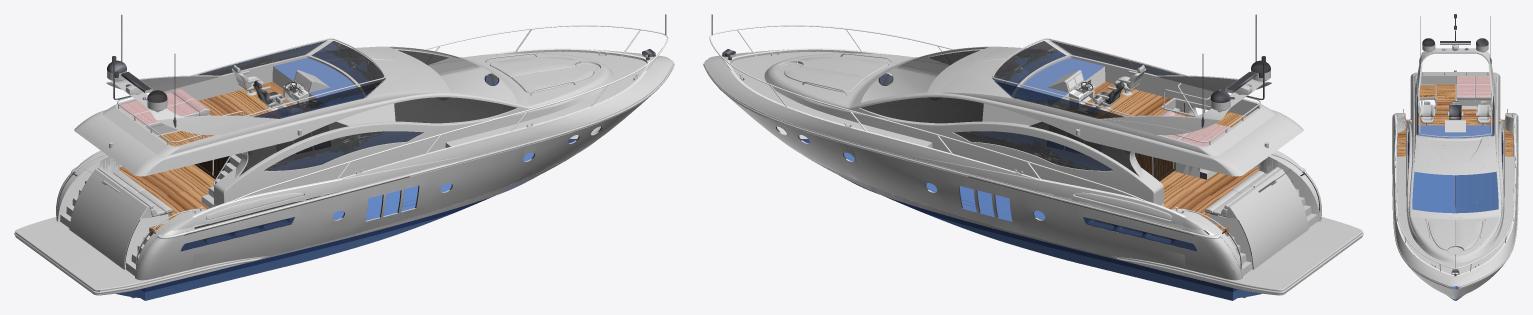
File: yacht.glb
3 renders of one model, left to right at view 1: azimuth 30°, elevation 25°; view 2: azimuth 150°, elevation 25°; view 3: azimuth 270°, elevation 25°, orthographic. The views are drawn at different scales.
Visible parts, largest first — view 1: cabin, topside_starboard, deck, flybridge, deco_mat_10, topside_port, transom, deco_mat_6, bottom, deco_mat_2, deco_white_0, deco_mat_5 (+7 smaller); view 2: cabin, topside_port, deck, flybridge, deco_mat_10, topside_starboard, transom, bottom, deco_mat_6, deco_mat_2, deco_white_0, deco_mat_5 (+8 smaller); view 3: deck, flybridge, cabin, bottom, deco_mat_6, deco_mat_7, deco_mat_8, deco_mat_1, deco_mat_5, deco_white_0, deco_material_0, topside_port (+4 smaller).
Part boxes in pixels (left/top/right/bottom): cabin: left=74, top=14, right=674, bottom=230; topside_starboard: left=53, top=96, right=650, bottom=295; deck: left=16, top=49, right=673, bottom=289; flybridge: left=92, top=38, right=437, bottom=161; deco_mat_10: left=180, top=40, right=499, bottom=251; topside_port: left=14, top=62, right=661, bottom=265; transom: left=56, top=172, right=160, bottom=297; deco_mat_6: left=85, top=82, right=310, bottom=236; bottom: left=116, top=152, right=538, bottom=300; deco_mat_2: left=147, top=50, right=517, bottom=175; deco_white_0: left=58, top=67, right=601, bottom=269; deco_mat_5: left=272, top=30, right=662, bottom=159; cabin: left=703, top=14, right=1303, bottom=230; topside_port: left=727, top=96, right=1323, bottom=295; deck: left=704, top=49, right=1361, bottom=289; flybridge: left=940, top=38, right=1285, bottom=161; deco_mat_10: left=878, top=41, right=1197, bottom=251; topside_starboard: left=777, top=68, right=1363, bottom=265; transom: left=1217, top=172, right=1362, bottom=297; bottom: left=839, top=152, right=1261, bottom=300; deco_mat_6: left=1067, top=82, right=1292, bottom=236; deco_mat_2: left=861, top=50, right=1270, bottom=175; deco_white_0: left=776, top=67, right=1319, bottom=269; deco_mat_5: left=715, top=29, right=1105, bottom=159; deck: left=1392, top=105, right=1518, bottom=286; flybridge: left=1412, top=30, right=1498, bottom=168; cabin: left=1392, top=70, right=1518, bottom=288; bottom: left=1408, top=147, right=1502, bottom=300; deco_mat_6: left=1397, top=84, right=1513, bottom=156; deco_mat_7: left=1418, top=125, right=1492, bottom=138; deco_mat_8: left=1457, top=76, right=1491, bottom=96; deco_mat_1: left=1419, top=14, right=1491, bottom=276; deco_mat_5: left=1395, top=171, right=1515, bottom=275; deco_white_0: left=1392, top=116, right=1518, bottom=210; deco_material_0: left=1394, top=115, right=1516, bottom=181; topside_port: left=1455, top=123, right=1517, bottom=300.
Bounding box in the file's own units: 18 × 6.83 × 4.83.
18 materials, 7 textured.
